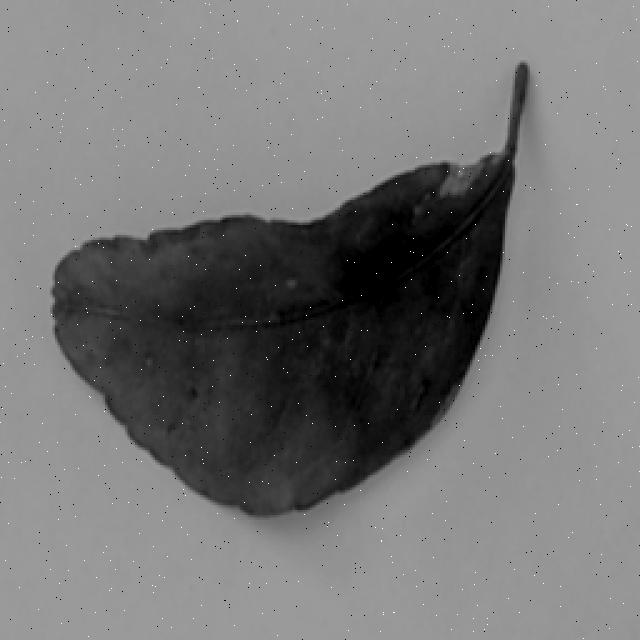greening: (52, 58, 537, 544)
